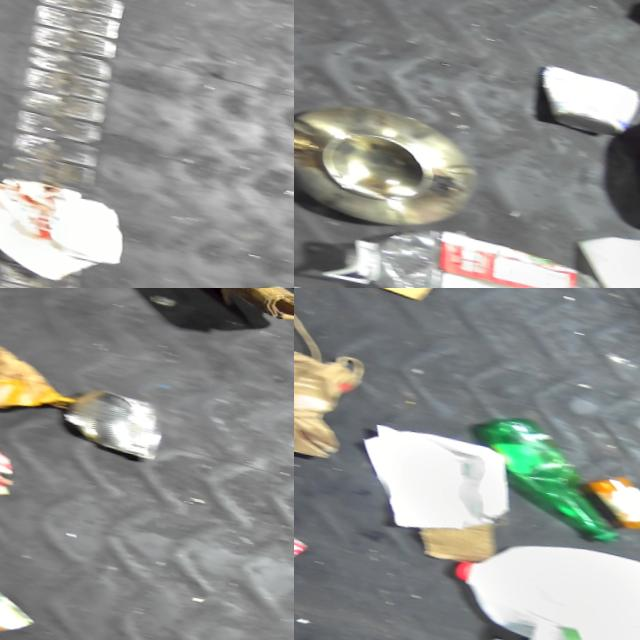can: (529, 55, 640, 134), (58, 379, 167, 457), (578, 460, 640, 532), (0, 555, 39, 640)
milk_jug: (439, 514, 640, 640)
plastic_bottle: (468, 406, 638, 543)
